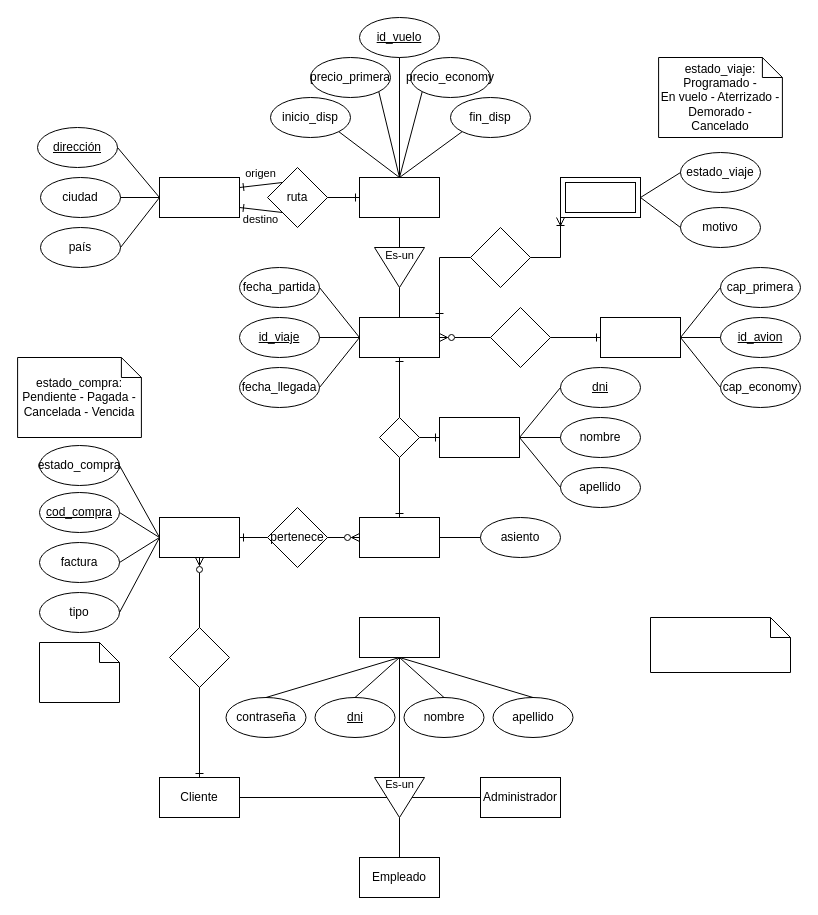
Image size: 818x915. Some labels were removed from this diagram. The centre of each missing label's shape, as x and y in pixels:
"Aeropuerto" belongs at point (199, 197).
"Avión" belongs at point (640, 337).
"Estado" belongs at point (600, 197).
"Falta: - Datos de pago (Tarjeta)" belongs at point (720, 644).
"Pago" belongs at point (199, 537).
"Pasaje" belongs at point (399, 537).
"Pasajero" belongs at point (479, 437).
"reserva" belongs at point (199, 657).
"tipo: Virtual - Mostrador" belongs at point (79, 672).
"Usuario" belongs at point (399, 637).
"Viaje" belongs at point (399, 337).
"Vuelo" belongs at point (399, 197).
